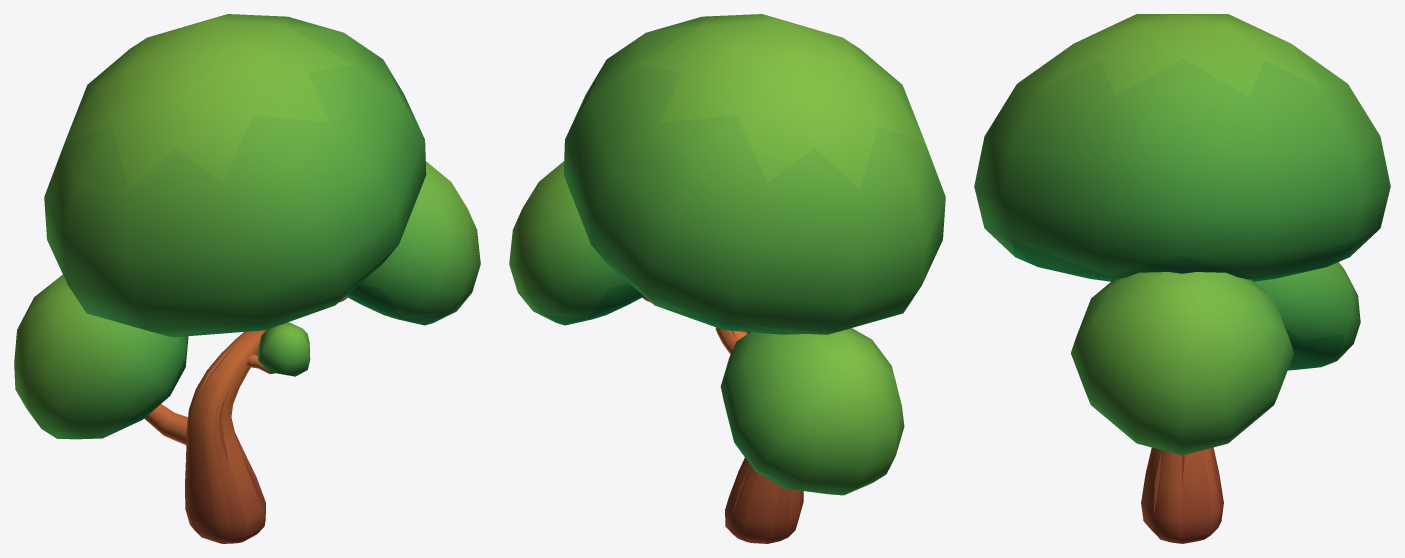
File: Tree_1_C_Color1.glb
The picture shows the model from 3 angles, left to right: view 1: azimuth 30°, elevation 25°; view 2: azimuth 150°, elevation 25°; view 3: azimuth 270°, elevation 25°; orthographic projection. The views are drawn at different scales.
Parts seen in each view (by area): view 1: Tree_1_C_Color1; view 2: Tree_1_C_Color1; view 3: Tree_1_C_Color1.
Part boxes in pixels (box(x1,y1,x2,y2)): Tree_1_C_Color1: box(14, 14, 480, 543); Tree_1_C_Color1: box(509, 14, 945, 543); Tree_1_C_Color1: box(974, 14, 1390, 543).
Size of the model in its own units: 6.69 by 7.81 by 5.75.
Materials: 1 (1 with a texture image).
